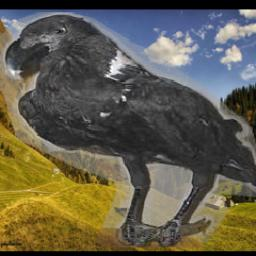Crow: (1, 13, 256, 248)
